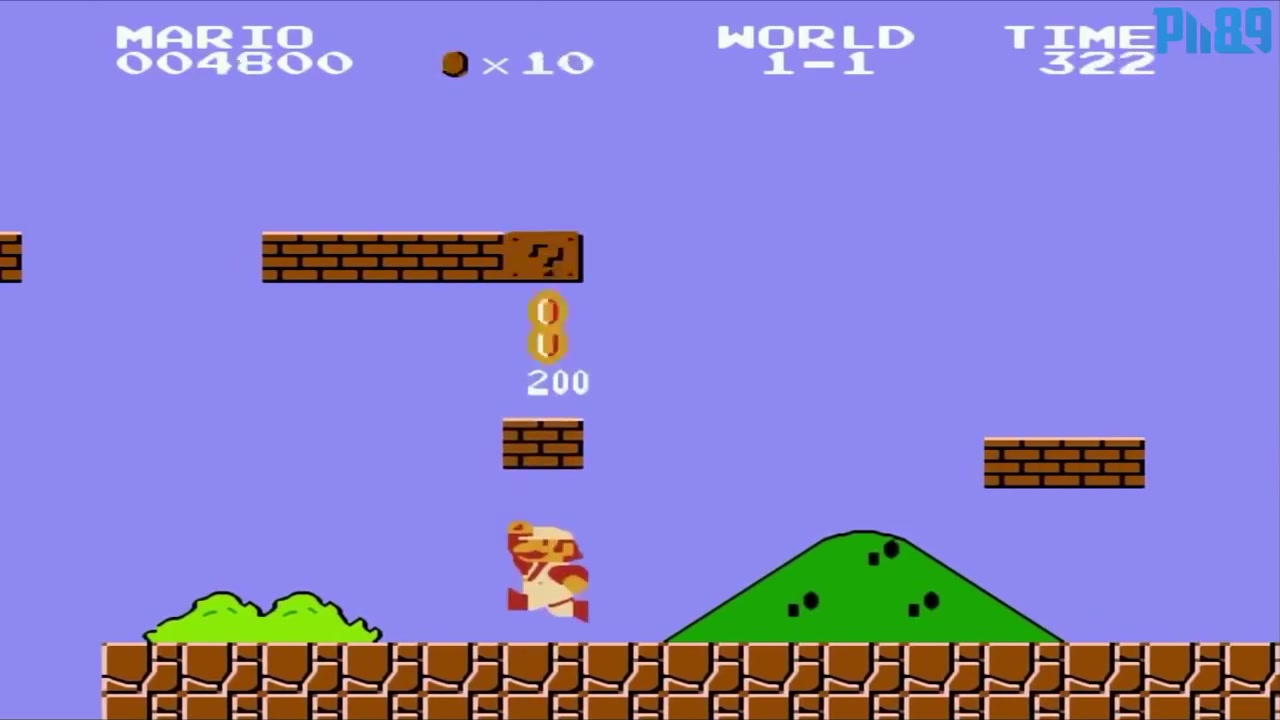mario: (498, 511, 594, 626)
